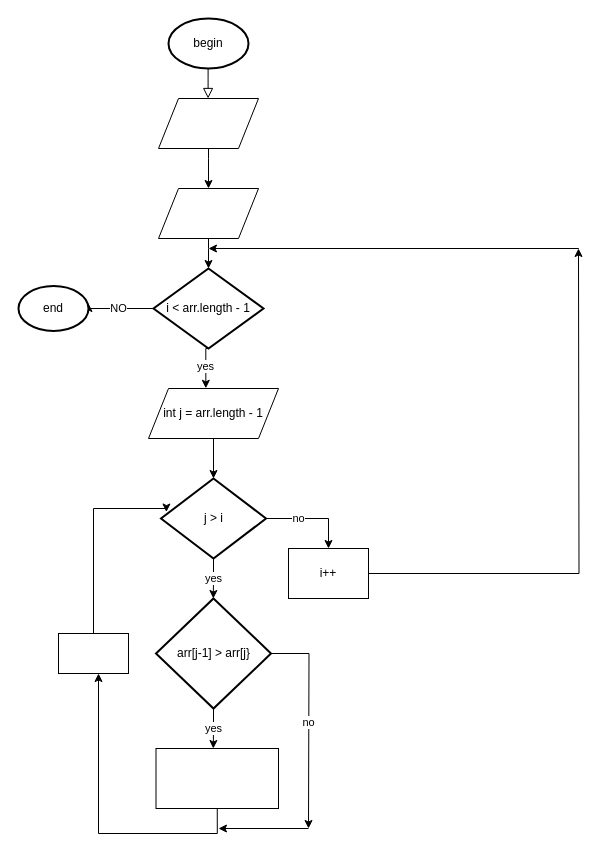
Image size: 604x859. Some labels were removed from this diagram. Here are the shapes that lost their labels. From the top down, the box of each, then its label:
(158, 98, 258, 148): int [ ] arr
(158, 188, 258, 238): int i = 0
(58, 632, 128, 674): j--
(155, 748, 278, 808): int temp = arr[j-1] arr[j-1] = arr[j] arr[j] = temp
